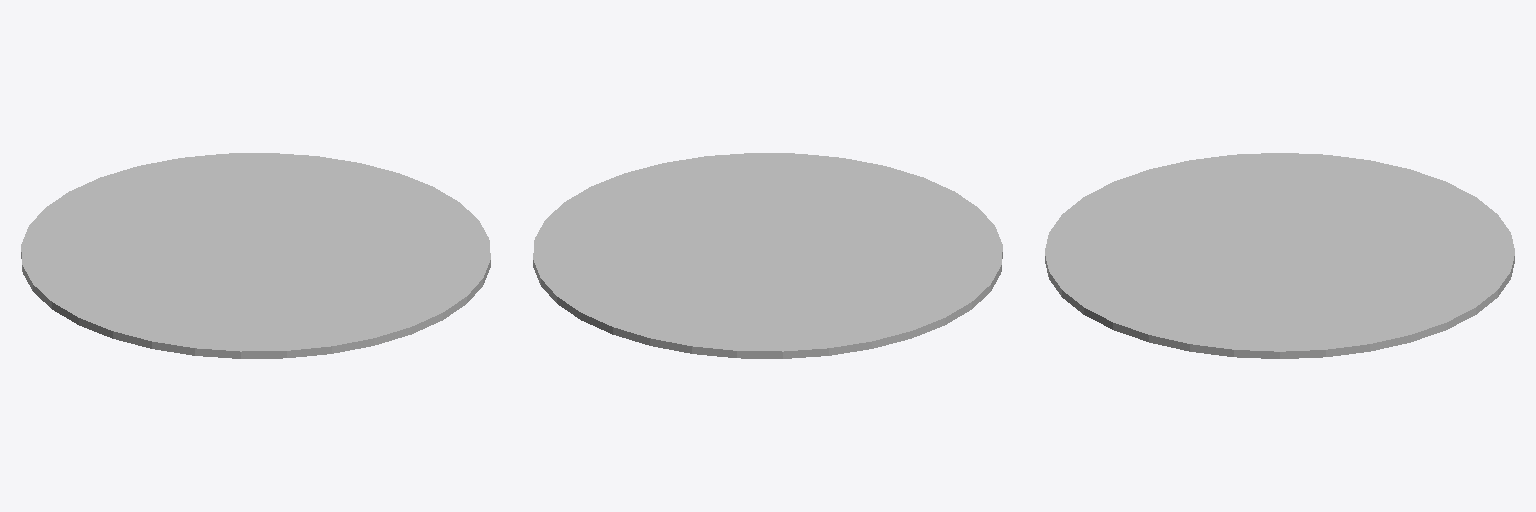
File: redLeatherCarpet.obj
3 renders of one model, left to right at view 1: azimuth 30°, elevation 25°; view 2: azimuth 150°, elevation 25°; view 3: azimuth 270°, elevation 25°, orthographic.
Visible parts, largest first — view 1: Cylinder; view 2: Cylinder; view 3: Cylinder.
Part boxes in pixels (bbox=[...]): Cylinder: bbox=[21, 153, 490, 358]; Cylinder: bbox=[533, 153, 1002, 358]; Cylinder: bbox=[1045, 153, 1514, 358].
Bounding box in the file's own units: 5.46 × 0.0969 × 5.46.